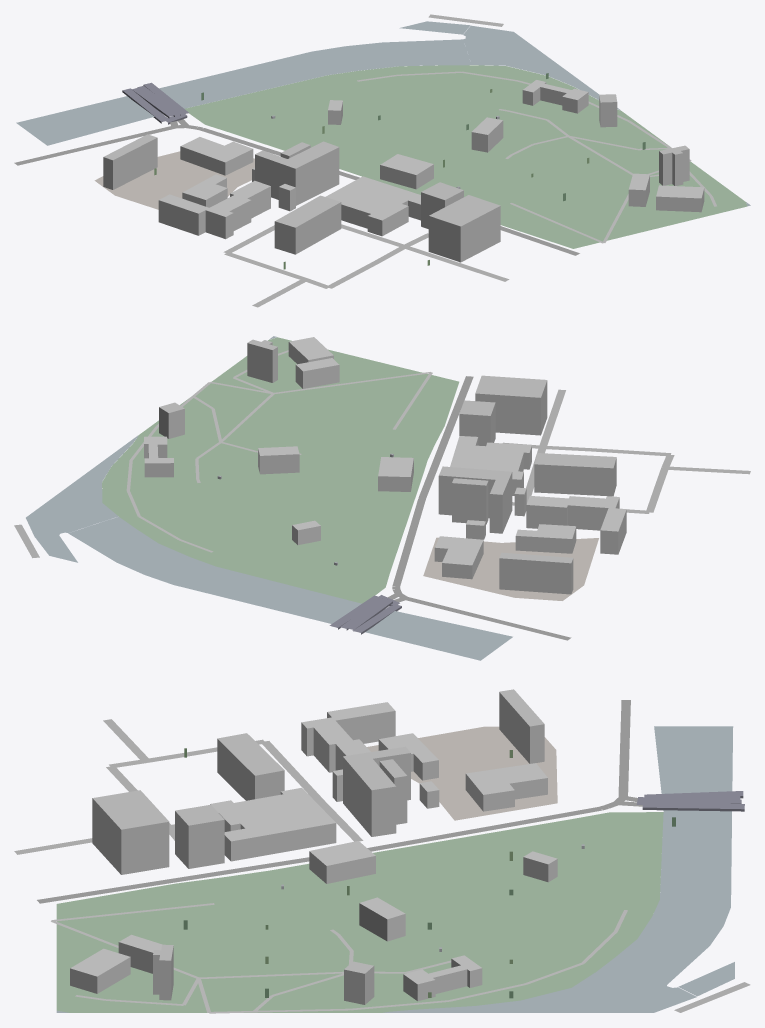
3 views of the same model, one above another, from view 1: azimuth 30°, elevation 25°; view 2: azimuth 150°, elevation 25°; view 3: azimuth 270°, elevation 25° (orthographic). The views are drawn at different scales.
Bounding box in the file's own units: 547 × 40.25 × 543.
